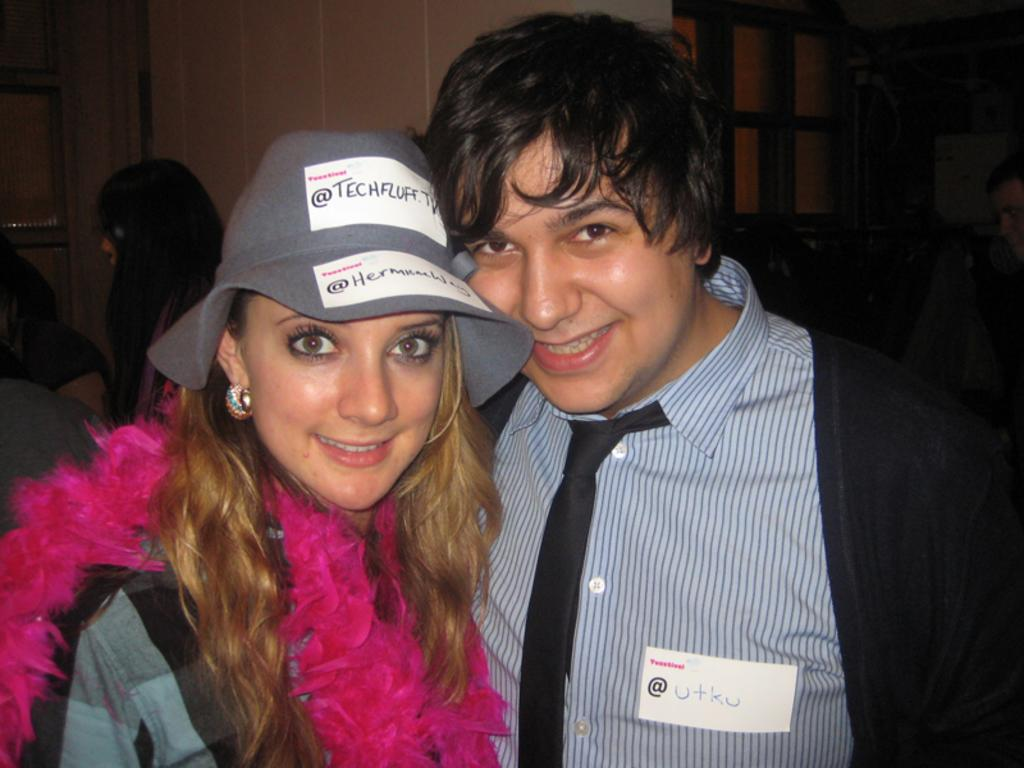Sem Máscara: (447, 135, 694, 416), (239, 293, 441, 511)
